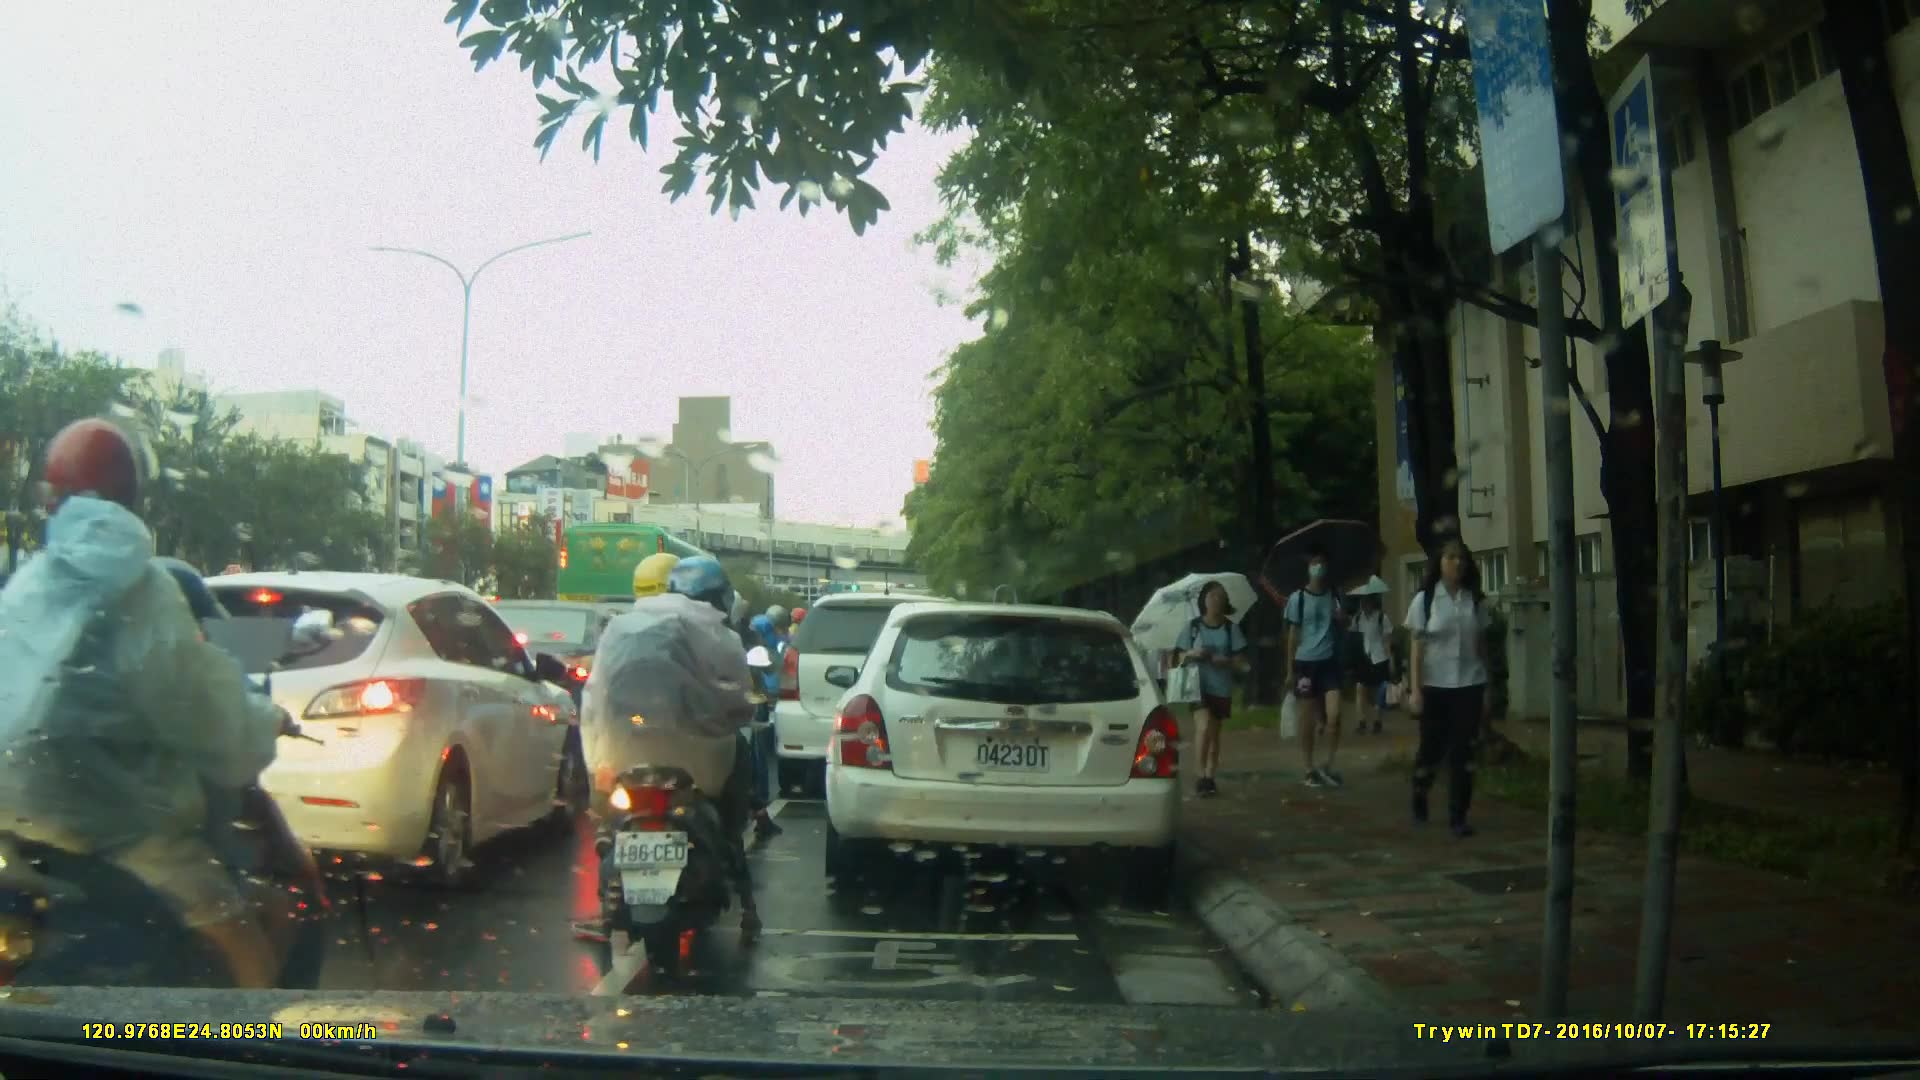pedestrian: (1391, 530, 1511, 847), (1272, 551, 1356, 797), (1173, 579, 1246, 801), (1133, 604, 1174, 741)
rider: (1, 413, 366, 1066), (564, 552, 780, 952), (648, 581, 760, 831), (737, 599, 797, 748)
vehicle: (93, 569, 588, 883), (822, 604, 1186, 882), (774, 595, 995, 802), (554, 519, 739, 666)
